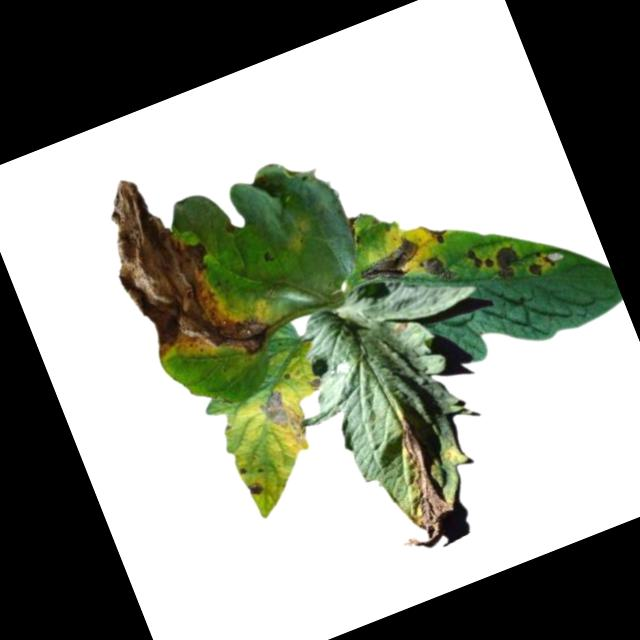Early_blight: (84, 148, 276, 389), (360, 407, 465, 555), (352, 230, 428, 294), (253, 381, 309, 446), (419, 248, 457, 288), (489, 240, 526, 281), (522, 243, 557, 279), (423, 215, 455, 250), (463, 241, 494, 274), (245, 476, 266, 497)
